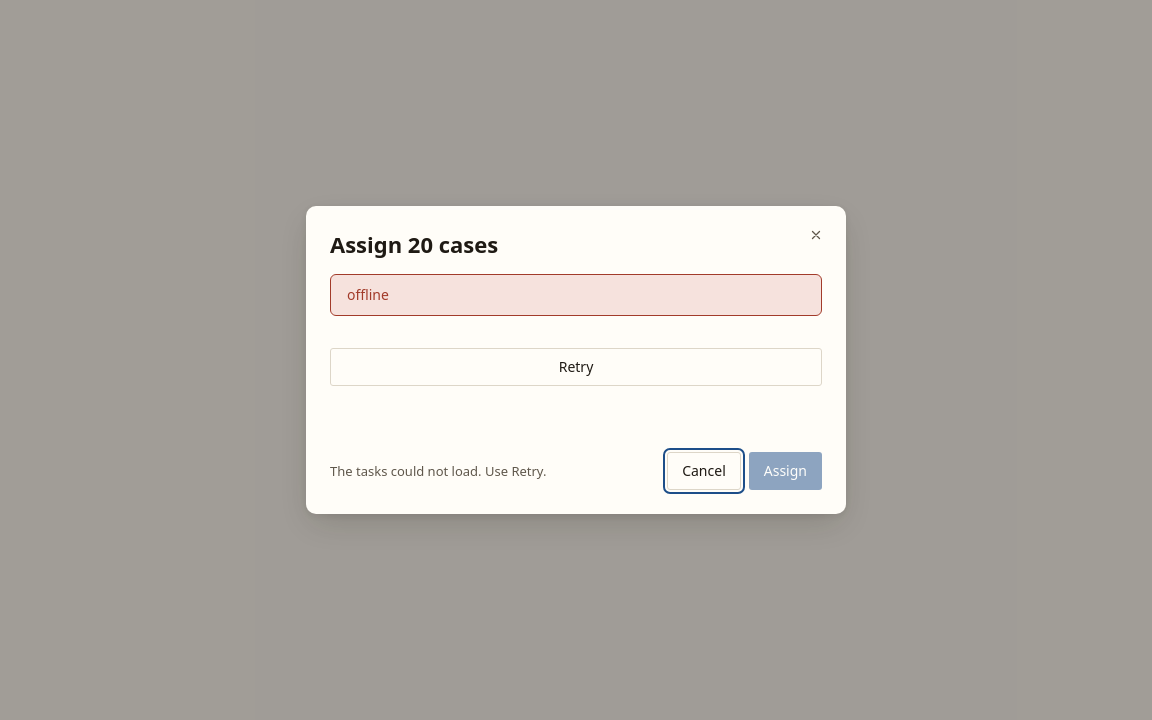
Test: names a failed load of the selection's steps in the footer and recovers with Retry
expect the text "The tasks could not load. Use Retry." is shown: met, box [330,461,546,481]
Step 1. Click the button "Retry" → (576,367), box [330,348,822,386]
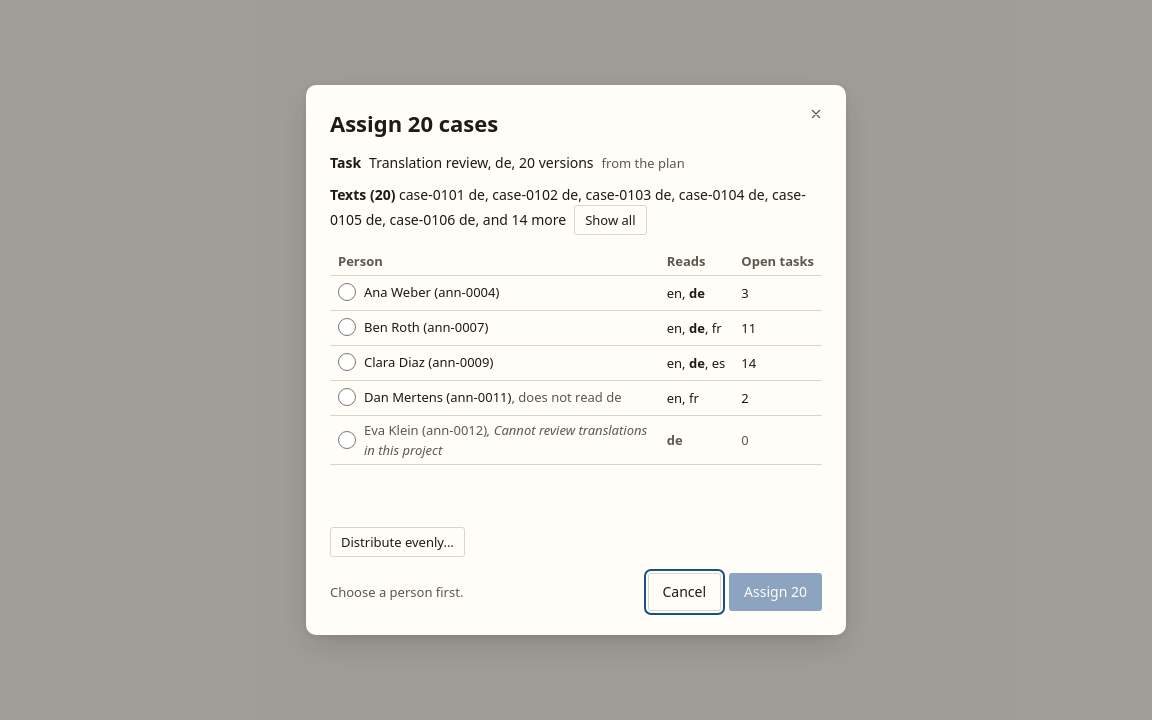
expect the table named "Members" is shown: met, box [330,247,822,465]
expect the text "The tasks could not load. Use Retry." is gone: met
